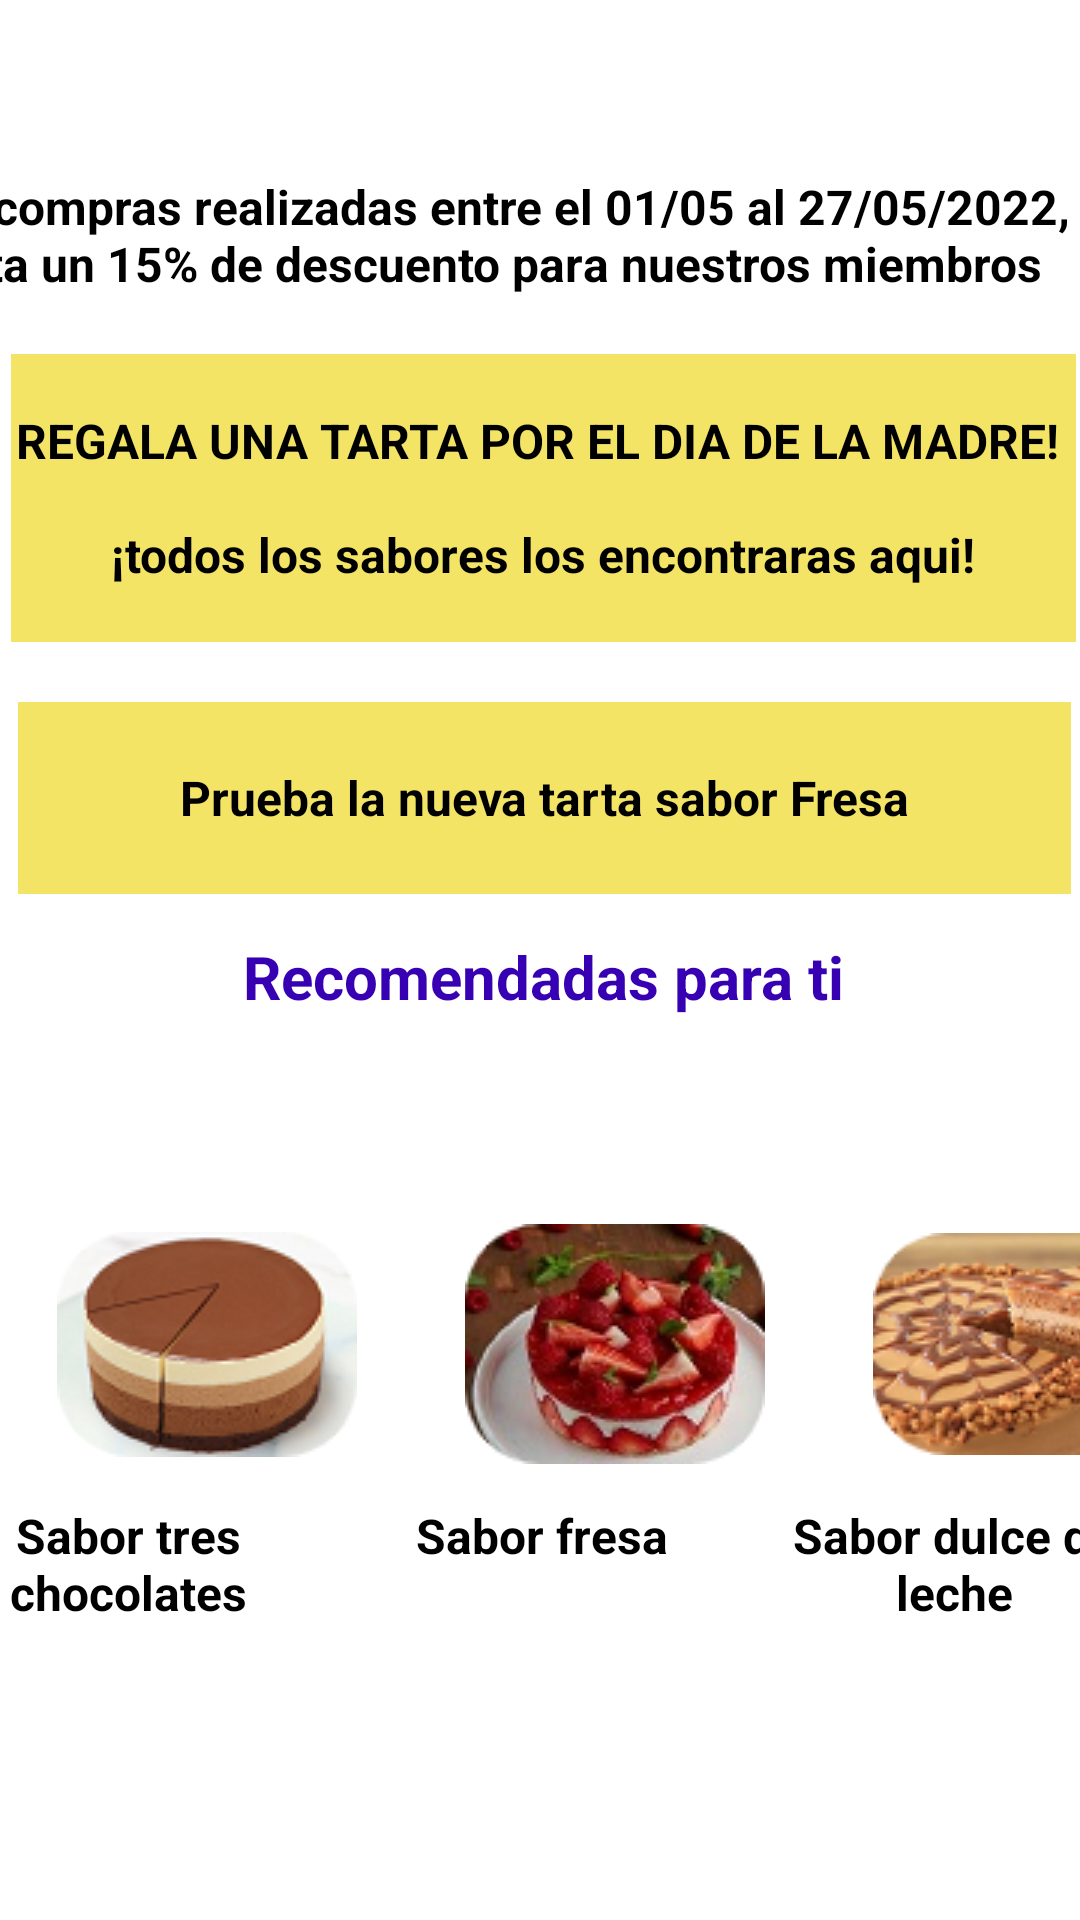

Where to tap for icons on this 1080px x 1920px app screen, as (x=x, y=y):
tarta ch: (x=207, y=1347)
tartafresssr: (x=615, y=1344)
